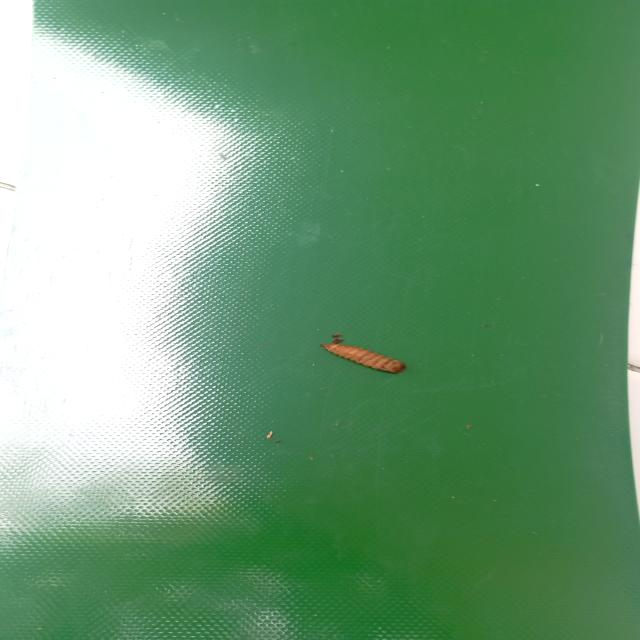Maggot: (322, 335, 406, 377)
